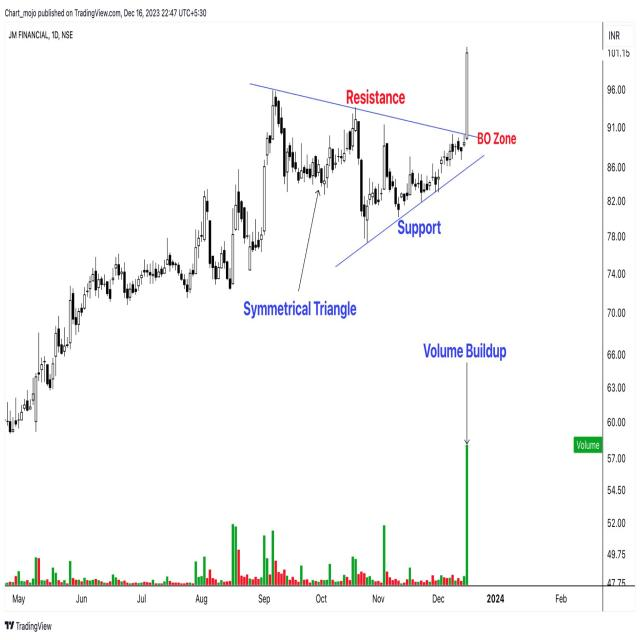Triangle: (249, 84, 492, 300)
